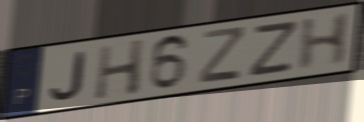6: (149, 32, 195, 95)
H: (295, 10, 354, 74), (92, 36, 147, 101)
J: (48, 49, 88, 102)
Z: (245, 18, 301, 80), (196, 24, 248, 85)
